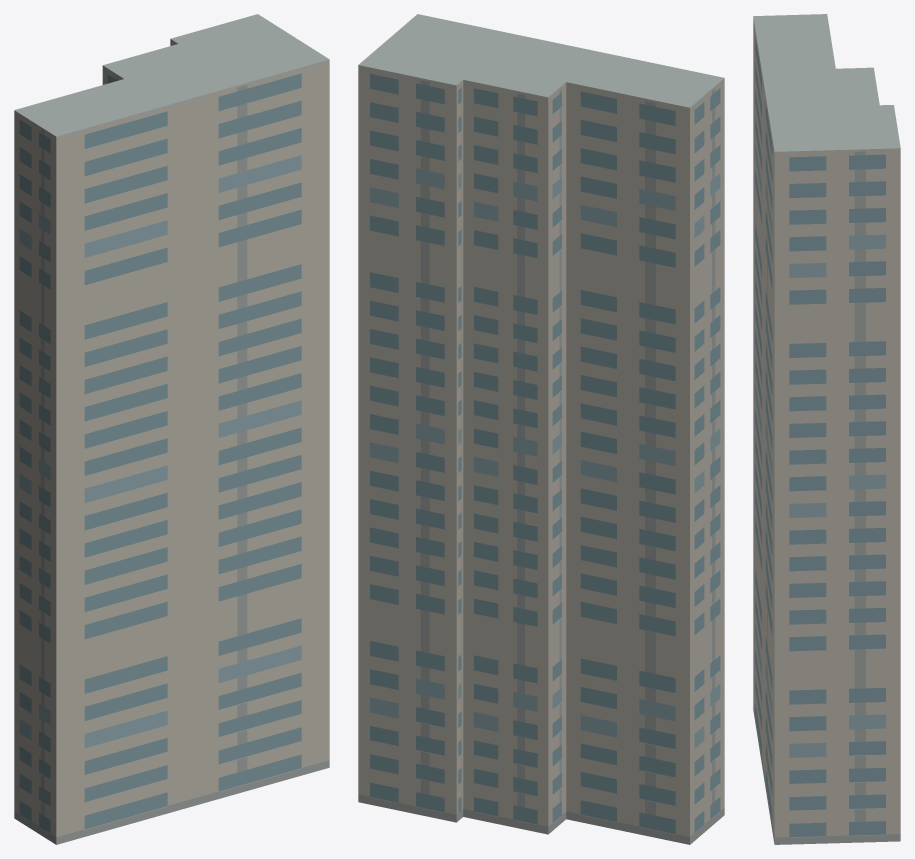
The model's file is residential-c3f5a4af-ab58-428e-9a60-3a7bdcb1ab7f.glb.
3 views of the same model, side by side, from view 1: azimuth 30°, elevation 25°; view 2: azimuth 150°, elevation 25°; view 3: azimuth 270°, elevation 25° (orthographic). The views are drawn at different scales.
Visible parts, largest first — view 1: residential-c3f5a4af-ab58-428e-9a60-3a7bdcb1ab7f.tmp; view 2: residential-c3f5a4af-ab58-428e-9a60-3a7bdcb1ab7f.tmp; view 3: residential-c3f5a4af-ab58-428e-9a60-3a7bdcb1ab7f.tmp.
Boxes of the visible parts, x1,y1,x2,y2 form: residential-c3f5a4af-ab58-428e-9a60-3a7bdcb1ab7f.tmp: (14, 14, 329, 844); residential-c3f5a4af-ab58-428e-9a60-3a7bdcb1ab7f.tmp: (358, 14, 724, 844); residential-c3f5a4af-ab58-428e-9a60-3a7bdcb1ab7f.tmp: (753, 14, 900, 844).
Size of the model in its own units: 34.13 by 80 by 15.44.
